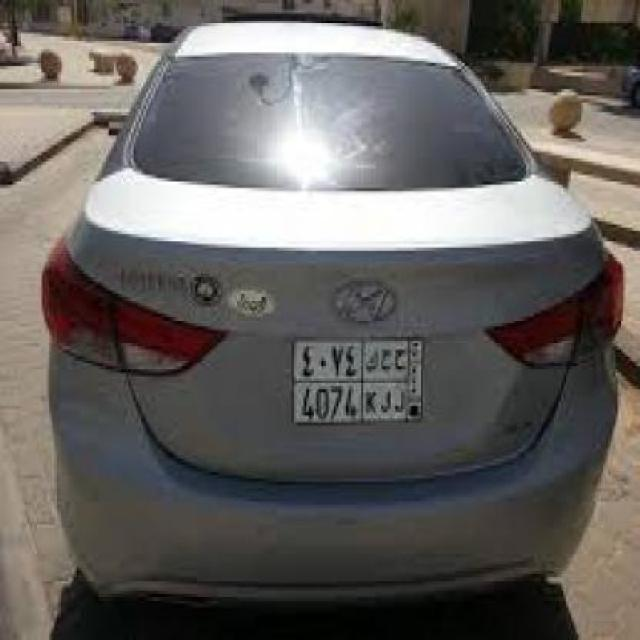license_plate: (288, 333, 426, 429)
